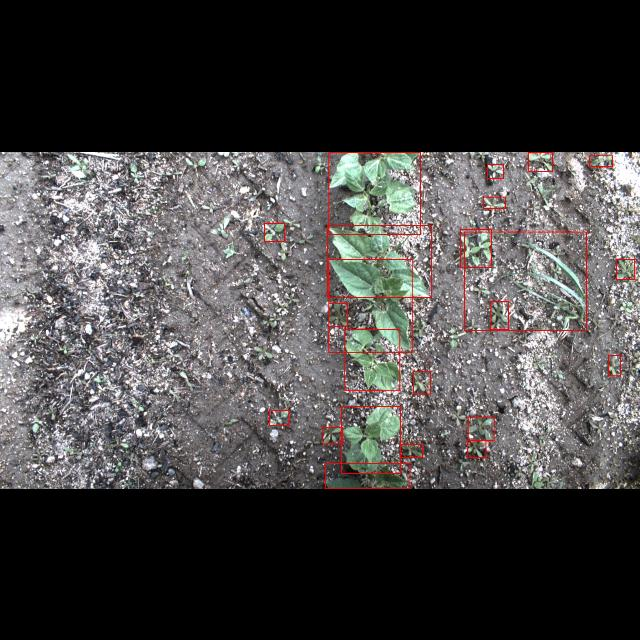crop: (328, 258, 412, 352), (328, 225, 432, 297), (328, 151, 419, 233), (342, 406, 401, 474), (344, 328, 400, 390), (326, 464, 410, 488)
weed: (464, 230, 586, 330), (461, 229, 492, 267), (468, 416, 494, 440), (491, 301, 509, 329), (328, 302, 348, 326), (528, 152, 552, 170), (264, 222, 284, 242), (414, 371, 431, 394), (323, 426, 343, 444), (616, 258, 634, 278), (468, 439, 486, 457), (269, 410, 289, 426), (401, 444, 423, 456), (609, 354, 621, 376), (483, 196, 505, 208), (590, 154, 612, 166), (487, 164, 503, 178)
